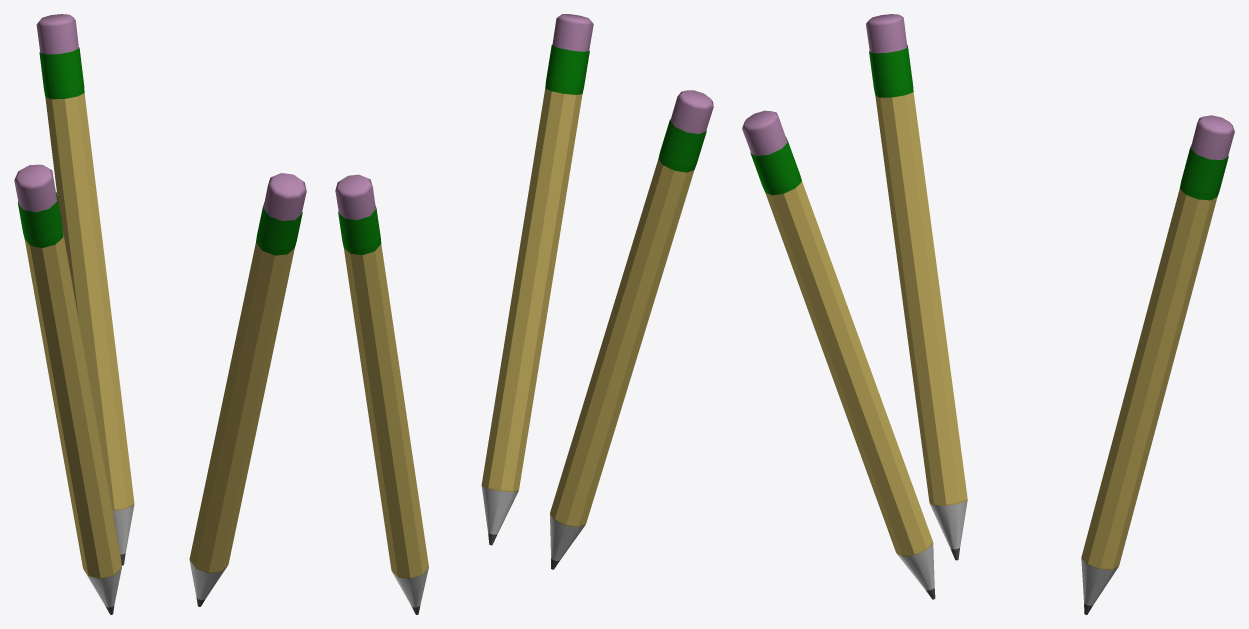
The model's file is pencils in cupholder.fbx.
3 views of the same model, side by side, from view 1: azimuth 30°, elevation 25°; view 2: azimuth 150°, elevation 25°; view 3: azimuth 270°, elevation 25° (orthographic). The views are drawn at different scales.
Visible parts, largest first — view 1: pCylinder9; view 2: pCylinder9; view 3: pCylinder9.
Boxes of the visible parts, x1,y1,x2,y2 form: pCylinder9: [14, 14, 306, 614]; pCylinder9: [335, 14, 713, 614]; pCylinder9: [742, 14, 1234, 614].
Size of the model in its own units: 0.9533 by 2.1 by 1.84.
